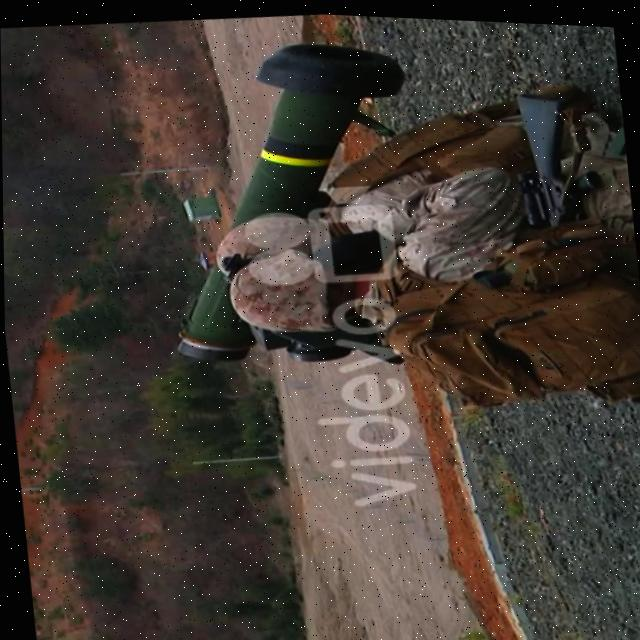rocket: (139, 24, 434, 363)
